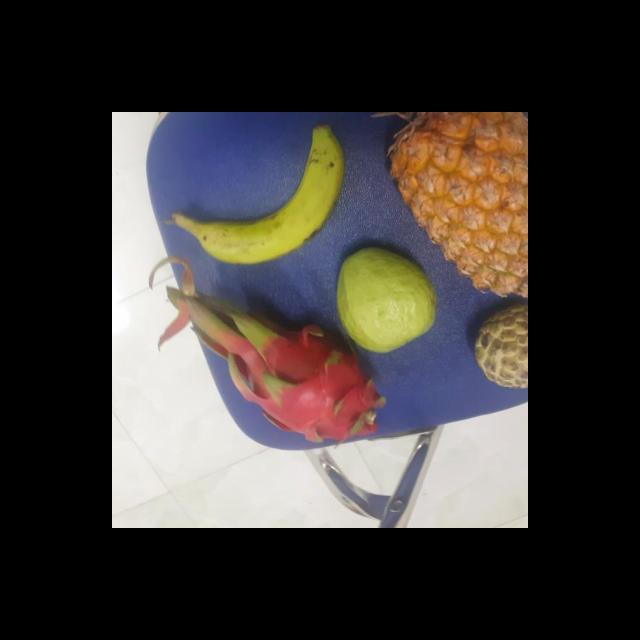Sakya fruit: (468, 303, 528, 387)
banana: (173, 132, 342, 262)
guava: (332, 250, 436, 351)
pitaya: (244, 322, 382, 444)
